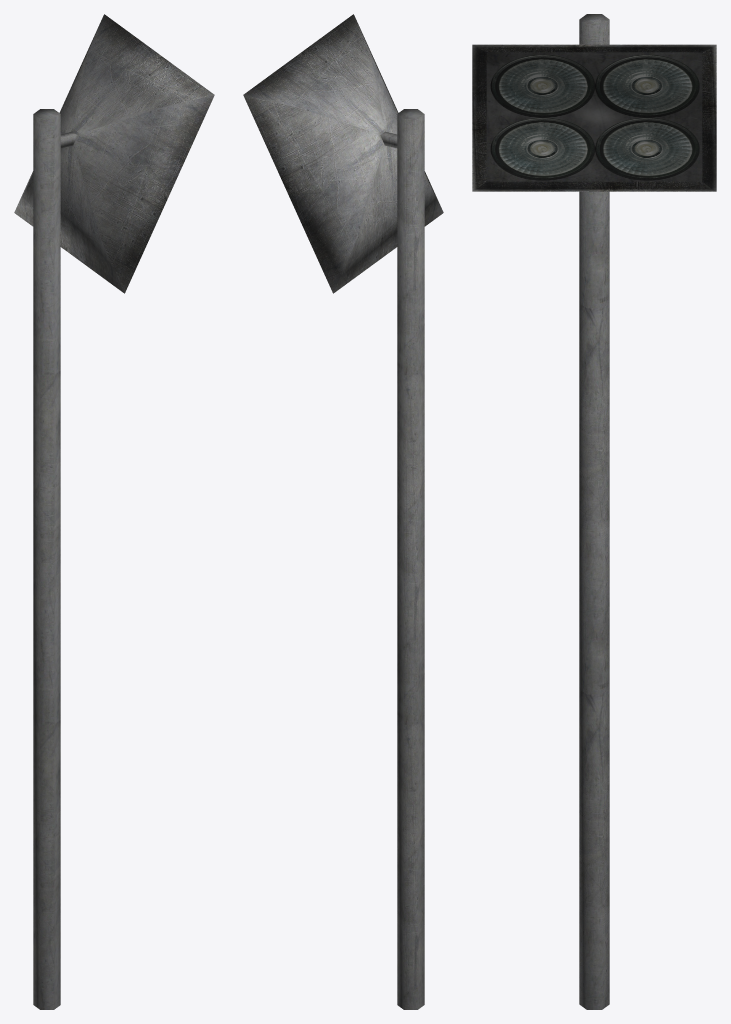
The model's file is lighting_tall.fbx.
The picture shows the model from 3 angles, left to right: view 1: azimuth 30°, elevation 25°; view 2: azimuth 150°, elevation 25°; view 3: azimuth 270°, elevation 25°; orthographic projection. The views are drawn at different scales.
Visible parts, largest first — view 1: lighting_tall; view 2: lighting_tall; view 3: lighting_tall.
Boxes of the visible parts, x1,y1,x2,y2 form: lighting_tall: (14,14,214,1009); lighting_tall: (243,14,443,1009); lighting_tall: (472,14,716,1009).
Size of the model in its own units: 22.8 by 164 by 35.59.
